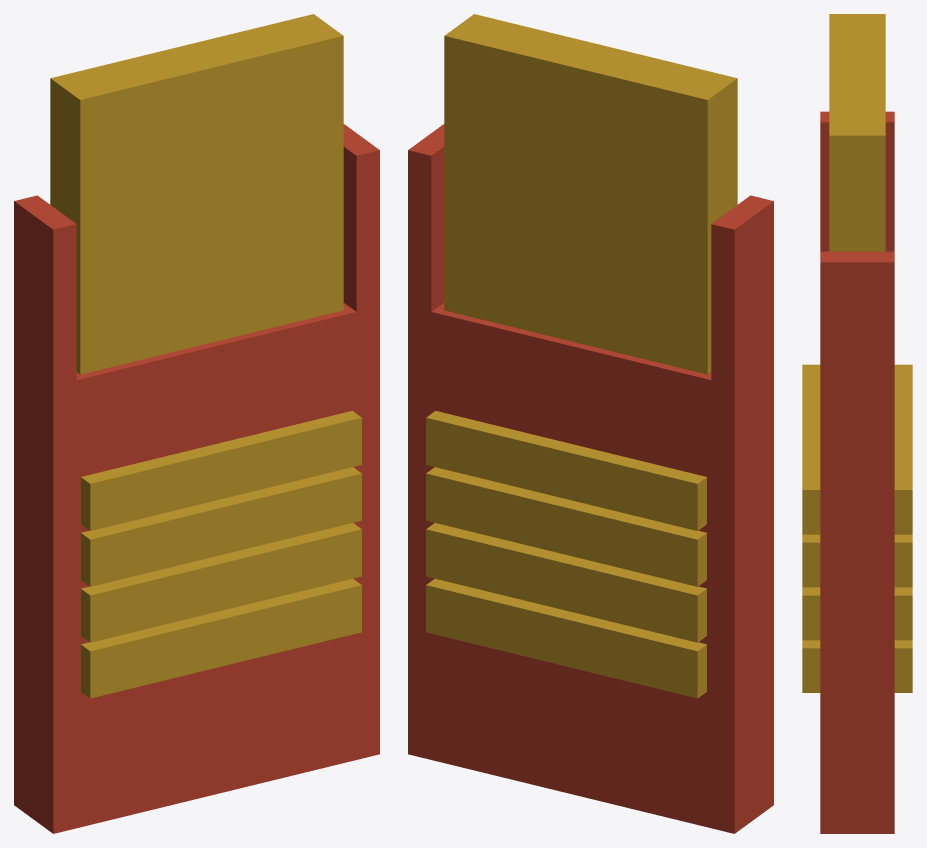
File: Panneau_Station_Checkpoint.fbx
3 renders of one model, left to right at view 1: azimuth 30°, elevation 25°; view 2: azimuth 150°, elevation 25°; view 3: azimuth 270°, elevation 25°, orthographic. The views are drawn at different scales.
Parts seen in each view (by area): view 1: Panneau_Station_Checkpoint; view 2: Panneau_Station_Checkpoint; view 3: Panneau_Station_Checkpoint.
Boxes of the visible parts, x1,y1,x2,y2 form: Panneau_Station_Checkpoint: [14, 14, 379, 833]; Panneau_Station_Checkpoint: [408, 14, 773, 833]; Panneau_Station_Checkpoint: [802, 14, 912, 833].
Bounding box in the file's own units: 398 × 842 × 123.
Materials: 1 (1 with a texture image).
